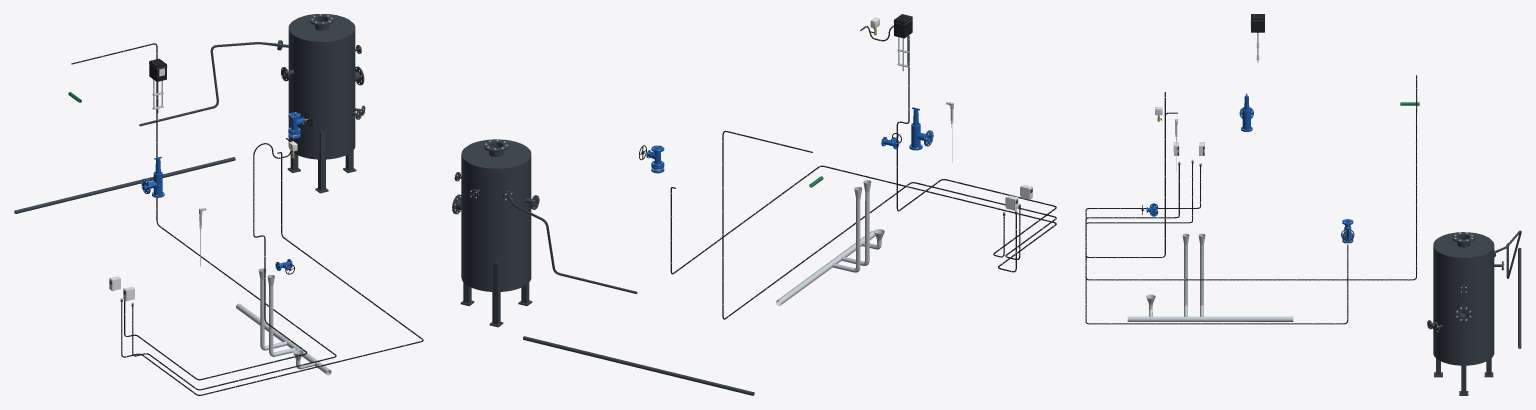
The model's file is s4000-2-ByIHVBy2.glb.
3 views of the same model, side by side, from view 1: azimuth 30°, elevation 25°; view 2: azimuth 150°, elevation 25°; view 3: azimuth 270°, elevation 25° (orthographic). The views are drawn at different scales.
Parts seen in each view (by area): view 1: separator_bdv60_5 / dark, local_open_drains / steel, mod_direct_drive_cable / black, wiring_pump_2 / black, wiring_pressure_switch_3 / black, bottom_discharge / dark, tds_without_fv / dark, safety_1 / blue; view 2: separator_bdv60_5 / dark, local_open_drains / steel, mod_direct_drive_cable / black, wiring_pump_2 / black, bottom_discharge / dark, wiring_pressure_switch_3 / black, tds_without_fv / dark, safety_1 / blue; view 3: separator_bdv60_5 / dark, local_open_drains / steel, mod_direct_drive_cable / black, wiring_pump_2 / black, wiring_pressure_switch_3 / black, bottom_discharge / dark.
Part boxes in pixels (x1,y1,x2,y2): separator_bdv60_5 / dark: [278, 14, 365, 193]; local_open_drains / steel: [236, 268, 331, 375]; mod_direct_drive_cable / black: [71, 43, 336, 390]; wiring_pump_2 / black: [121, 152, 423, 395]; wiring_pressure_switch_3 / black: [124, 138, 307, 380]; bottom_discharge / dark: [14, 157, 235, 213]; tds_without_fv / dark: [139, 40, 280, 126]; safety_1 / blue: [141, 156, 164, 197]; separator_bdv60_5 / dark: [452, 139, 539, 327]; local_open_drains / steel: [776, 180, 884, 305]; mod_direct_drive_cable / black: [722, 130, 1056, 319]; wiring_pump_2 / black: [670, 165, 1056, 274]; bottom_discharge / dark: [523, 336, 754, 395]; wiring_pressure_switch_3 / black: [860, 25, 1056, 257]; tds_without_fv / dark: [503, 191, 637, 293]; safety_1 / blue: [909, 107, 933, 150]; separator_bdv60_5 / dark: [1427, 232, 1503, 395]; local_open_drains / steel: [1127, 233, 1293, 321]; mod_direct_drive_cable / black: [1085, 75, 1417, 280]; wiring_pump_2 / black: [1085, 163, 1348, 324]; wiring_pressure_switch_3 / black: [1085, 92, 1201, 257]; bottom_discharge / dark: [1518, 247, 1521, 348].
Bounding box in the file's own units: 5.19 × 3.6 × 5.45.
